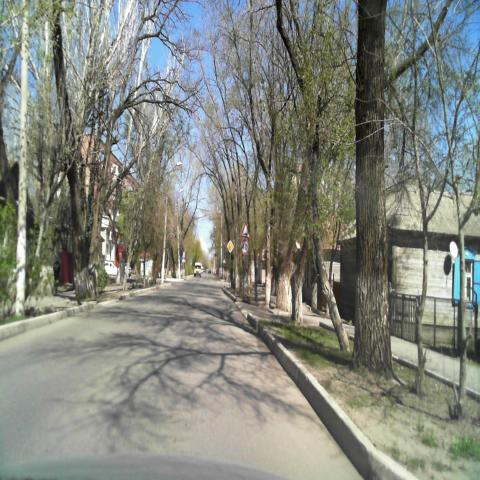1_17: (239, 223, 248, 237)
2_1: (226, 239, 234, 254)
3_24: (240, 240, 250, 256)
